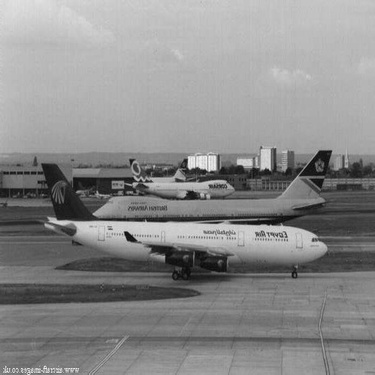airplane: (28, 146, 334, 288), (79, 142, 350, 230), (111, 151, 246, 206), (106, 150, 192, 191)
